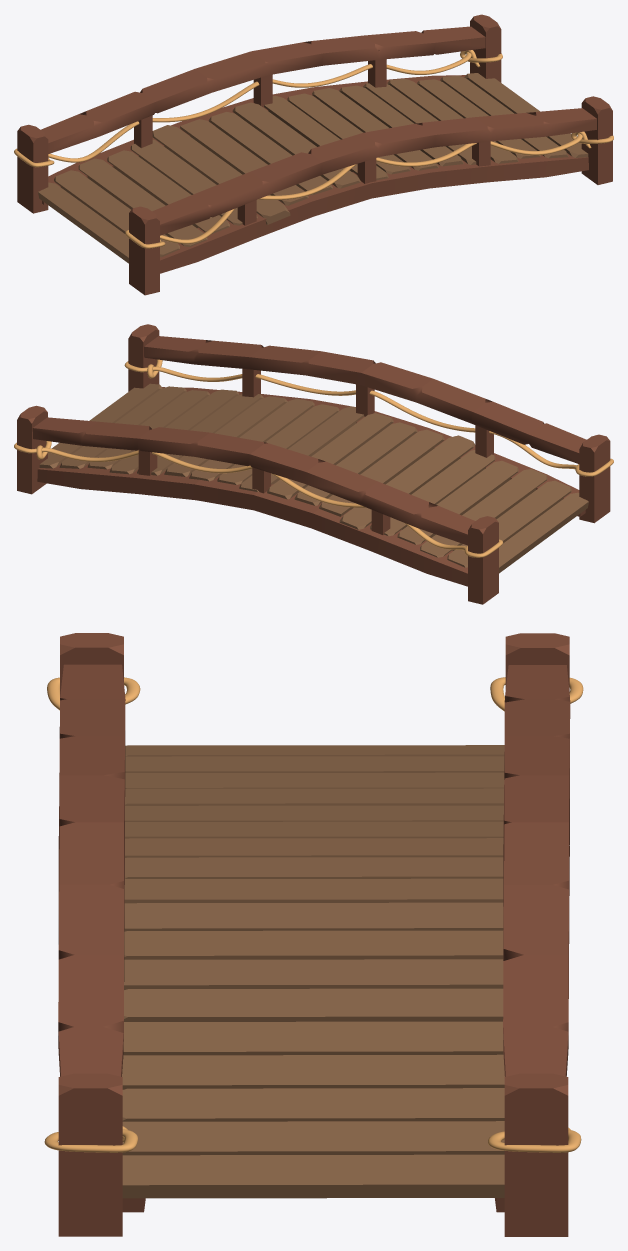
Rendered from castle-gate-bridge.fbx.
3 views of the same model, one above another, from view 1: azimuth 30°, elevation 25°; view 2: azimuth 150°, elevation 25°; view 3: azimuth 270°, elevation 25° (orthographic). The views are drawn at different scales.
Visible parts, largest first — view 1: Plane.068; view 2: Plane.068; view 3: Plane.068.
Boxes of the visible parts, x1,y1,x2,y2 form: Plane.068: (14,14,613,295); Plane.068: (14,324,613,604); Plane.068: (44,633,583,1236).
Size of the model in its own units: 903 by 170 by 444.
